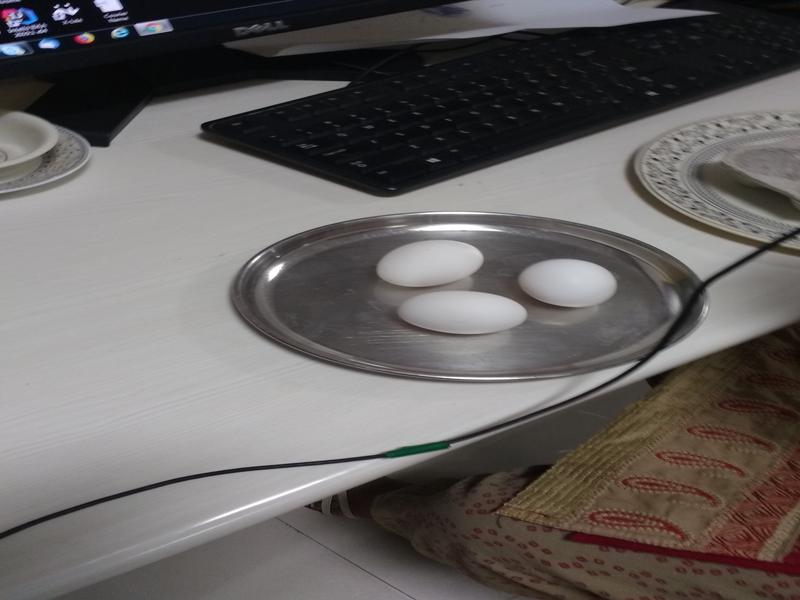egg: (521, 253, 622, 312)
